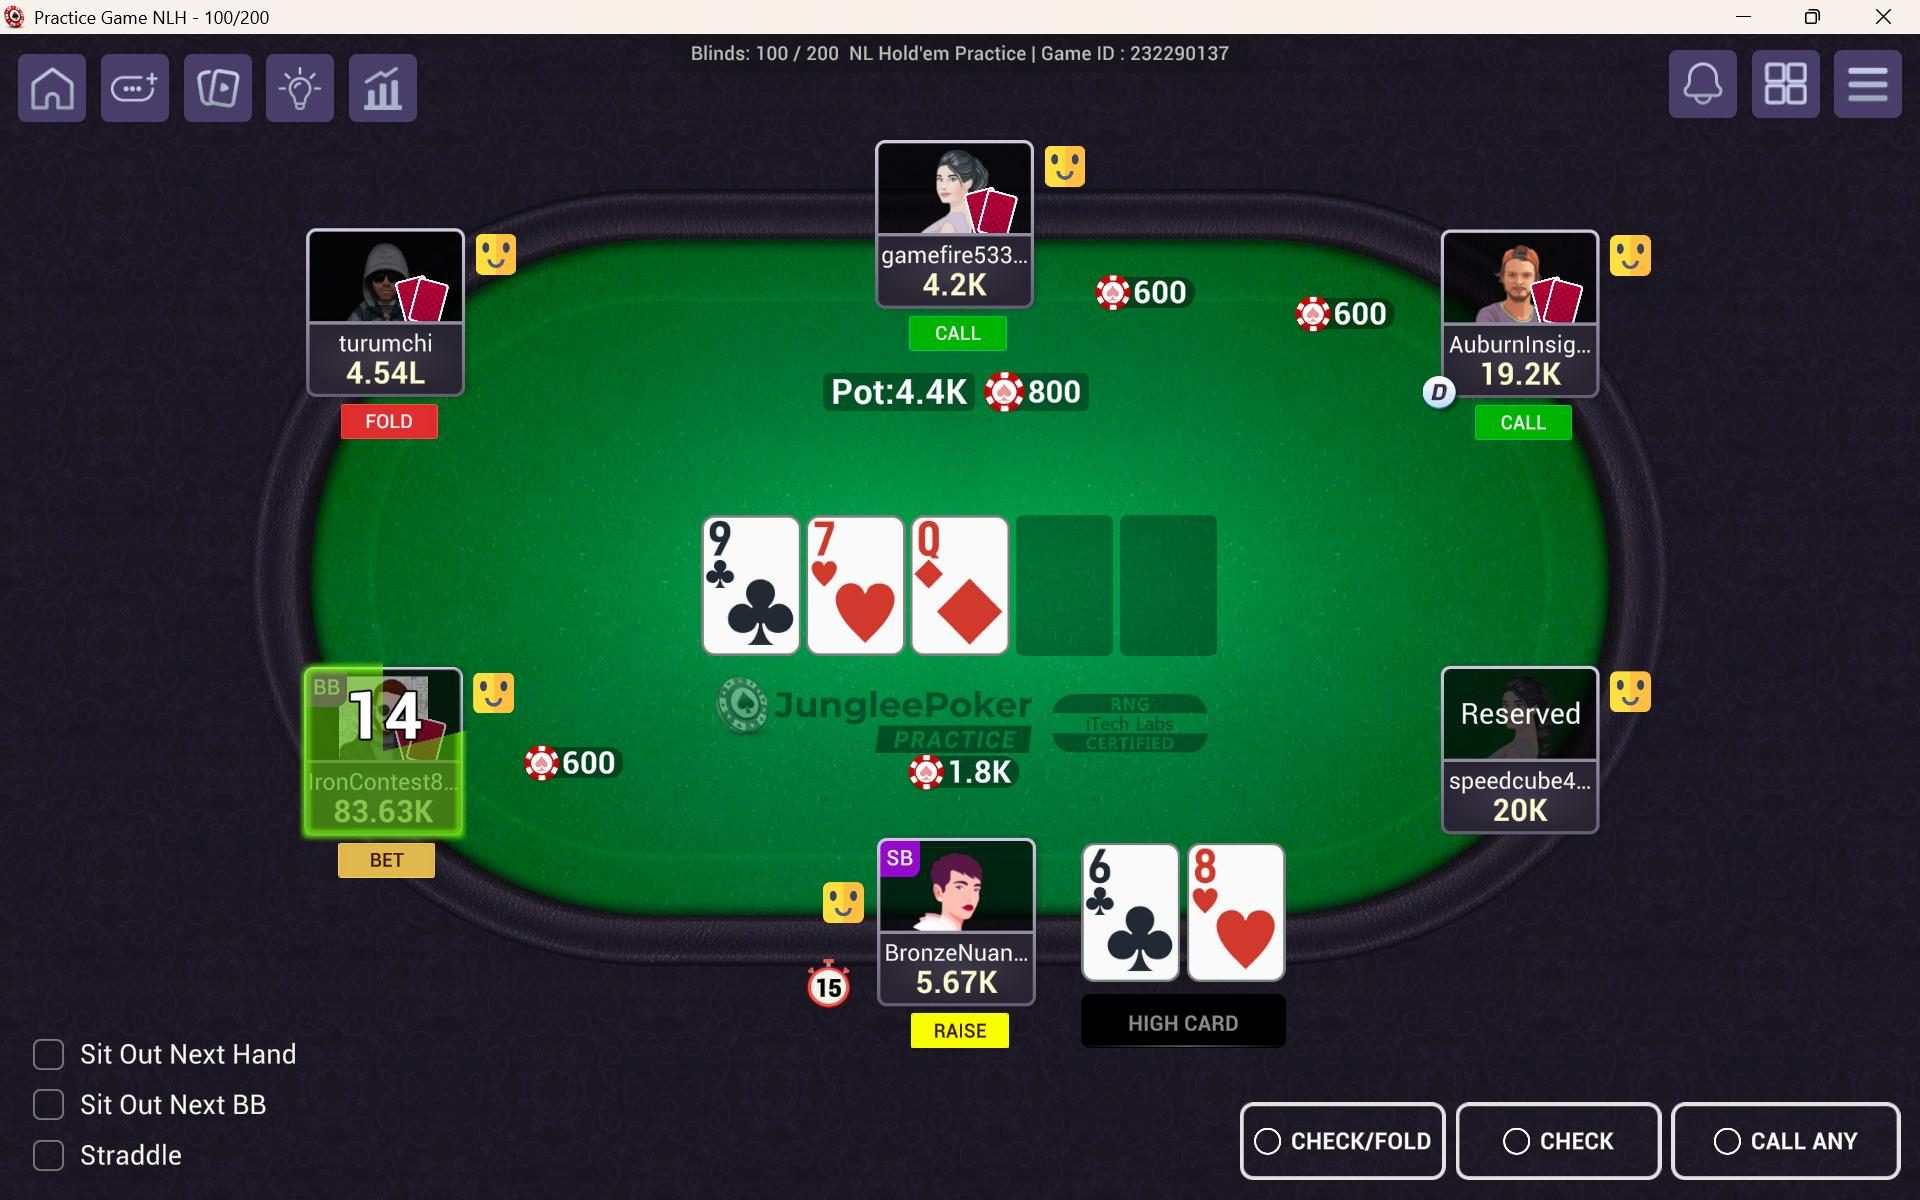card1_rank: (1080, 847, 1132, 888)
card1_suite_club: (1104, 900, 1178, 980)
card2_rank: (1190, 845, 1234, 890)
card2_suite_heart: (1208, 900, 1283, 983)
flop1_rank: (702, 513, 763, 557)
flop1_suite_club: (723, 575, 795, 655)
flop2_rank: (807, 517, 853, 557)
flop2_suite_heart: (829, 575, 908, 653)
flop3_rank: (915, 516, 962, 563)
flop3_suite_diamond: (937, 575, 1005, 653)
my_bet: (908, 748, 1026, 798)
my_stack: (900, 962, 1010, 1002)
position_BB: (307, 672, 352, 705)
position_SB: (882, 842, 915, 878)
total_pot: (820, 371, 1098, 415)
villian1_bet: (525, 748, 622, 780)
villian1_name: (305, 760, 463, 795)
villian1_stack: (328, 792, 440, 838)
villian2_name: (303, 318, 464, 355)
villian2_stack: (346, 355, 435, 393)
villian3_bet: (1085, 263, 1203, 312)
villian3_name: (882, 238, 1030, 270)
villian3_stack: (900, 260, 999, 303)
villian4_bet: (1287, 288, 1395, 337)
villian4_name: (1443, 322, 1590, 365)
villian4_stack: (1462, 347, 1570, 395)
villian5_name: (1444, 765, 1601, 798)
villian5_stack: (1480, 792, 1562, 828)
